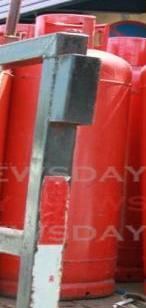cylinder: (1, 1, 146, 308)
